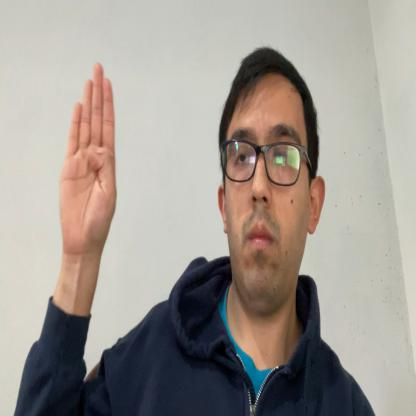B: (60, 60, 118, 257)
